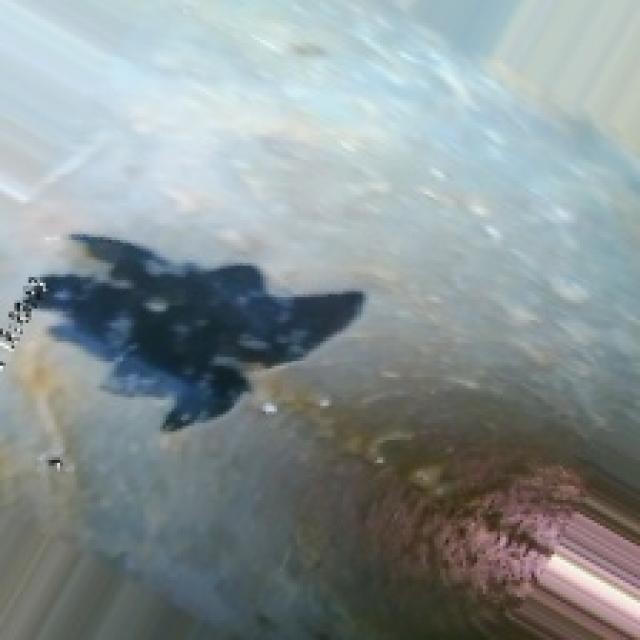pipe_surface_damage: (17, 226, 372, 431)
